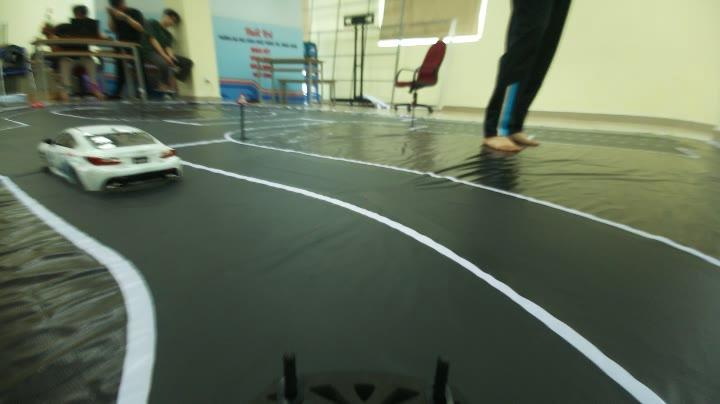car: (40, 117, 184, 198)
